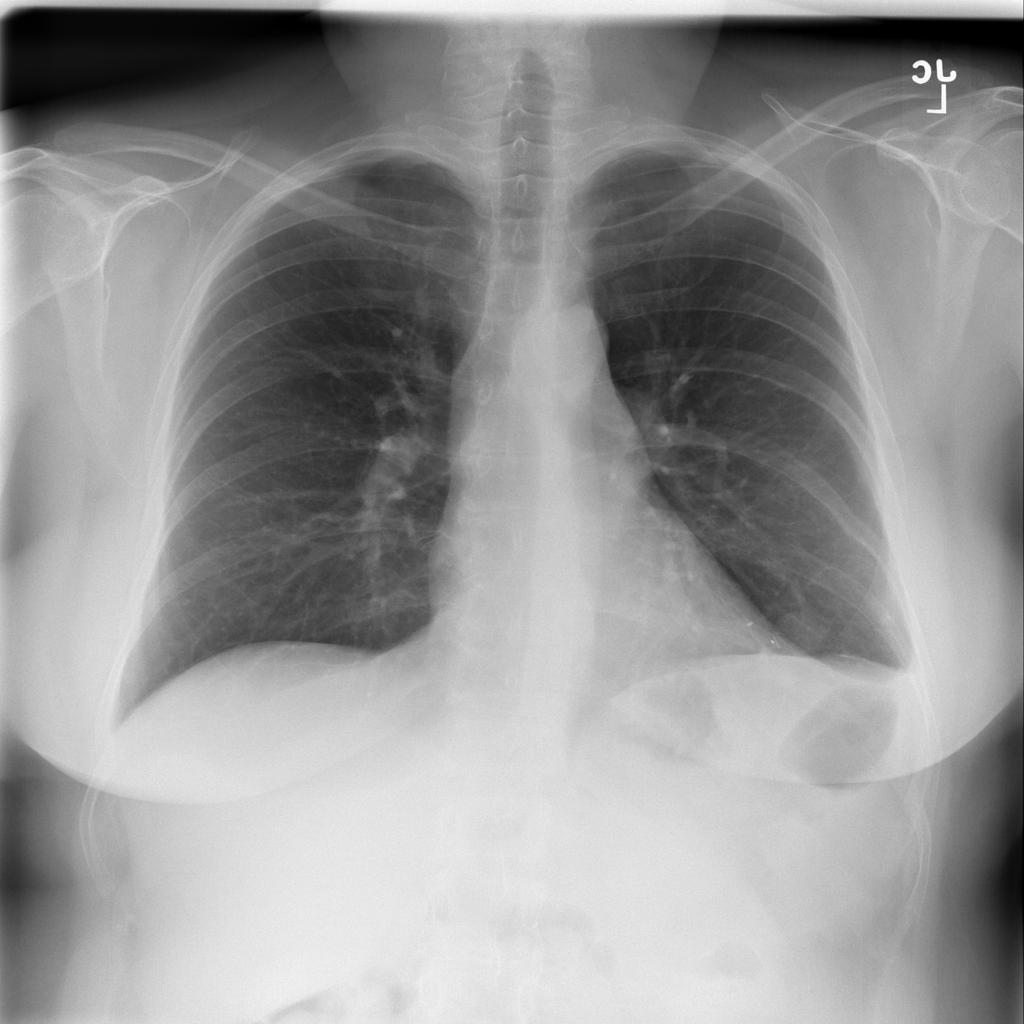nodule: (760, 595, 849, 663)
